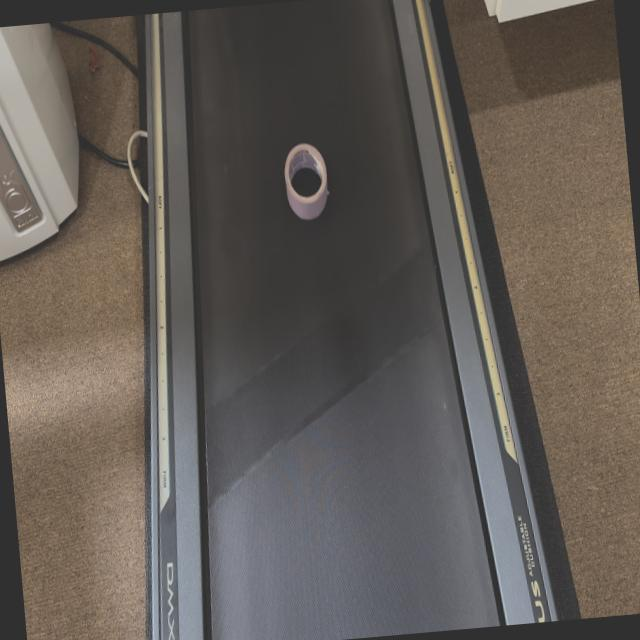Trash: (281, 144, 333, 220)
